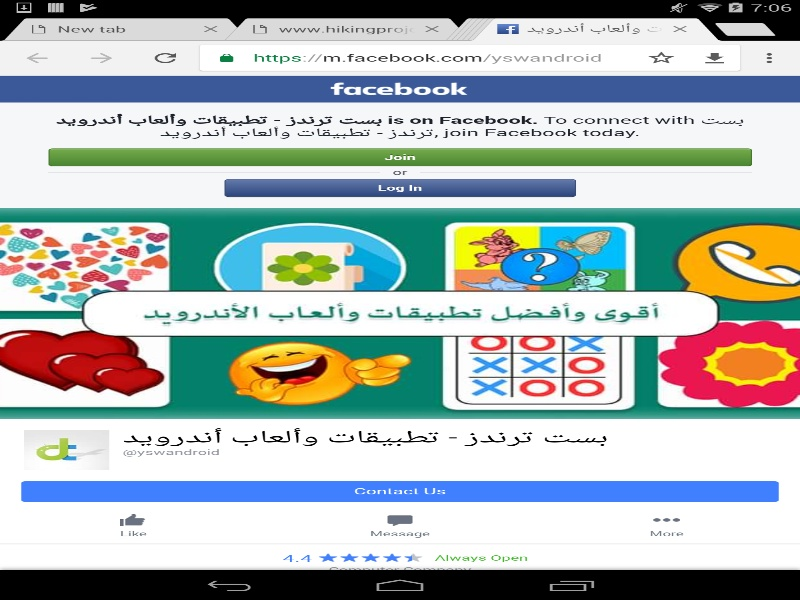Button: (48, 148, 752, 166), (266, 506, 533, 543), (533, 506, 800, 543), (0, 506, 266, 543), (224, 178, 576, 196), (5, 40, 69, 75), (69, 40, 133, 75), (133, 40, 197, 75), (742, 40, 800, 75), (634, 45, 688, 70), (200, 45, 253, 70), (688, 45, 741, 70)
Input: (253, 46, 634, 68)
